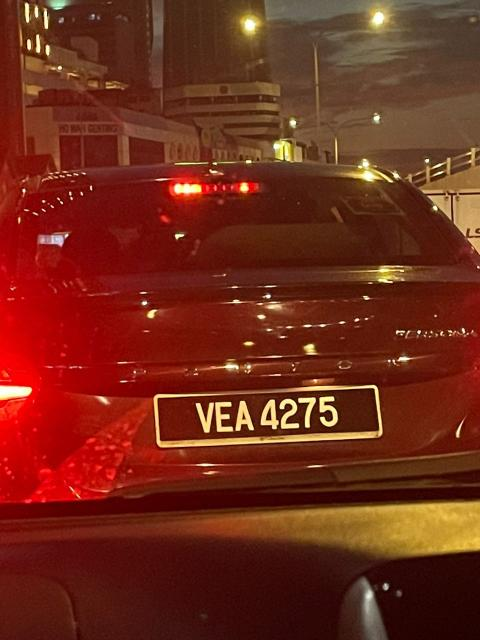License_Plate: (166, 387, 373, 436)
car: (10, 149, 480, 489)
